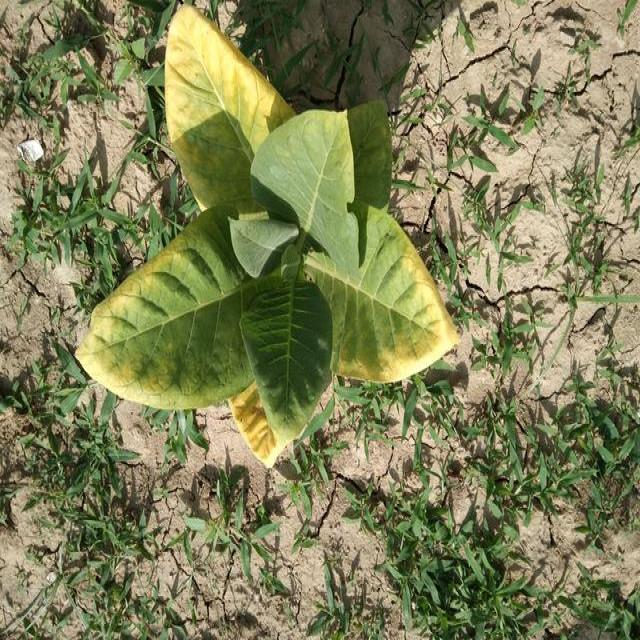crop: (68, 9, 463, 472)
